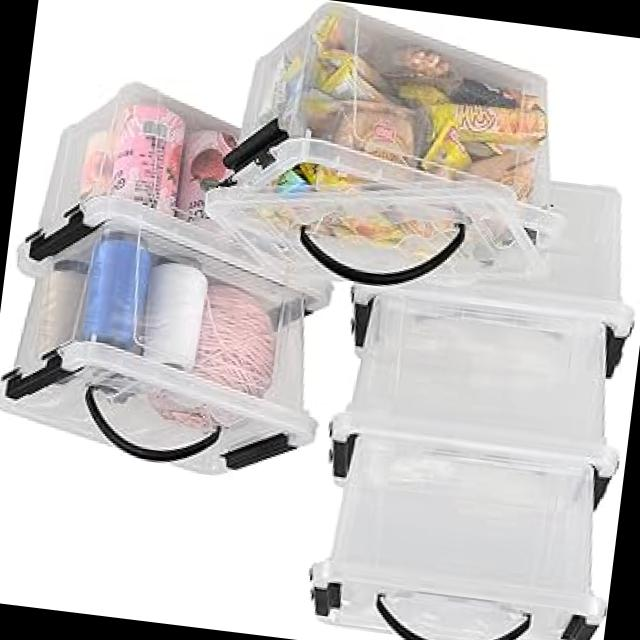plastic_box: (0, 20, 324, 500)
